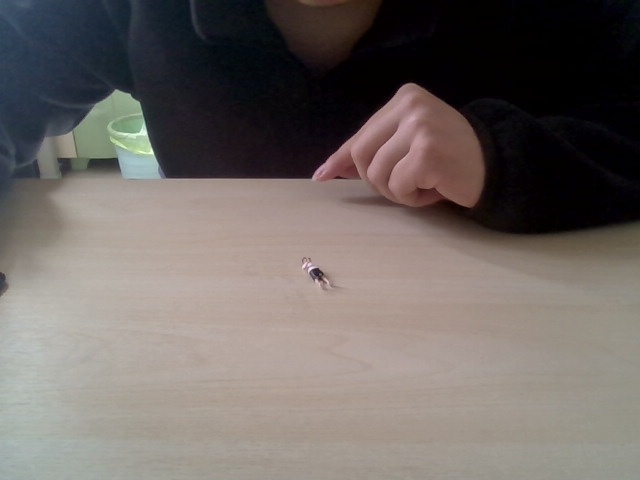fall: (297, 253, 334, 294)
